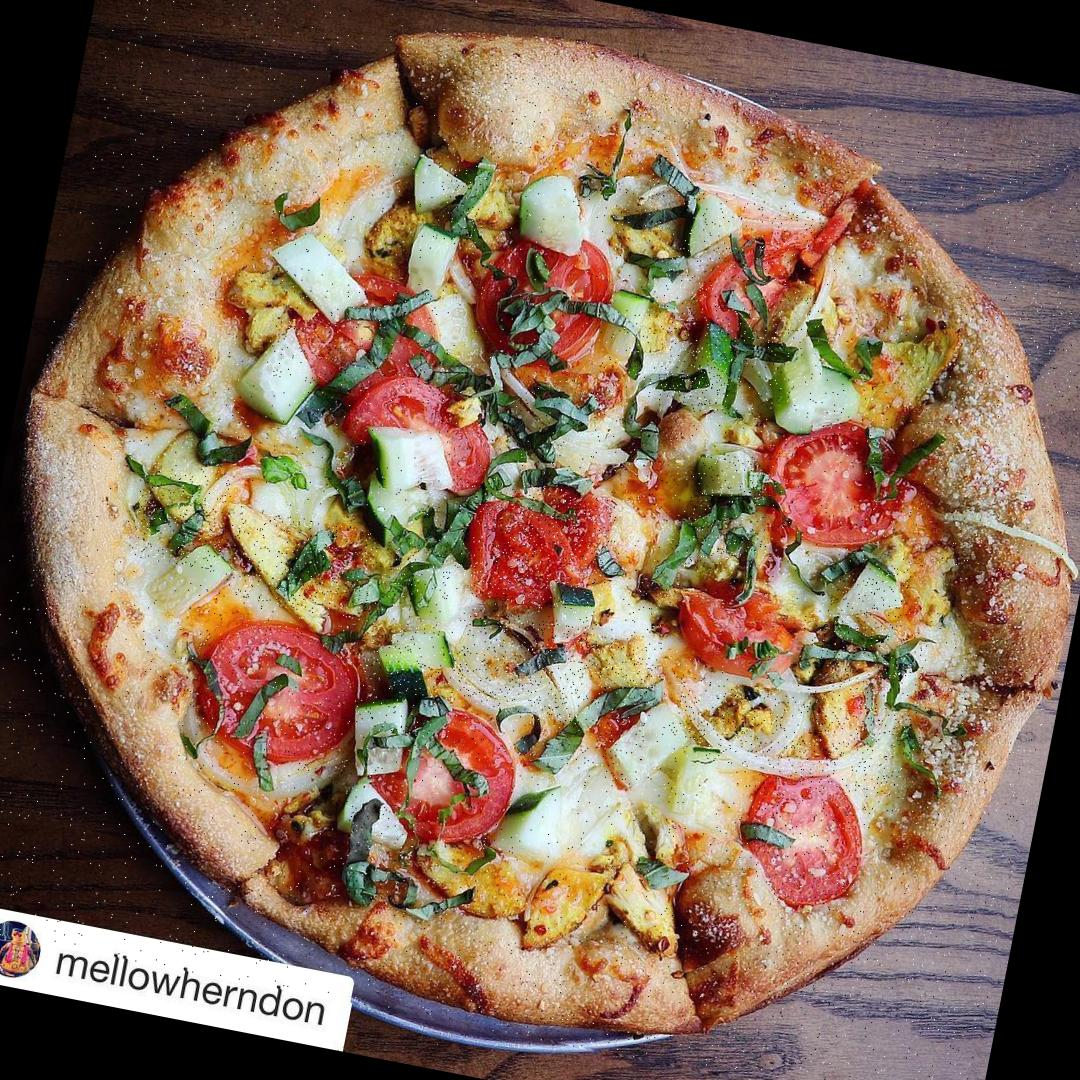Basil: (354, 539, 465, 741), (726, 344, 879, 448), (681, 450, 773, 586), (548, 676, 658, 787), (131, 459, 236, 573), (794, 615, 930, 699), (822, 546, 915, 659), (333, 781, 425, 889), (360, 434, 444, 542), (656, 314, 742, 419), (594, 162, 692, 241), (493, 388, 580, 474), (431, 164, 494, 256), (602, 305, 673, 382)
Chicken: (408, 836, 639, 968), (224, 507, 382, 624), (798, 636, 890, 762), (567, 616, 666, 703), (700, 676, 773, 740)
Onion: (667, 674, 910, 798), (444, 605, 600, 727), (614, 568, 672, 658)
Pizza: (0, 0, 1080, 1080)
Tomatoes: (180, 606, 368, 772), (648, 184, 829, 353), (454, 211, 618, 376), (263, 263, 442, 406), (756, 406, 916, 560), (331, 362, 501, 506), (461, 475, 621, 620), (734, 766, 879, 916), (662, 580, 832, 684)
